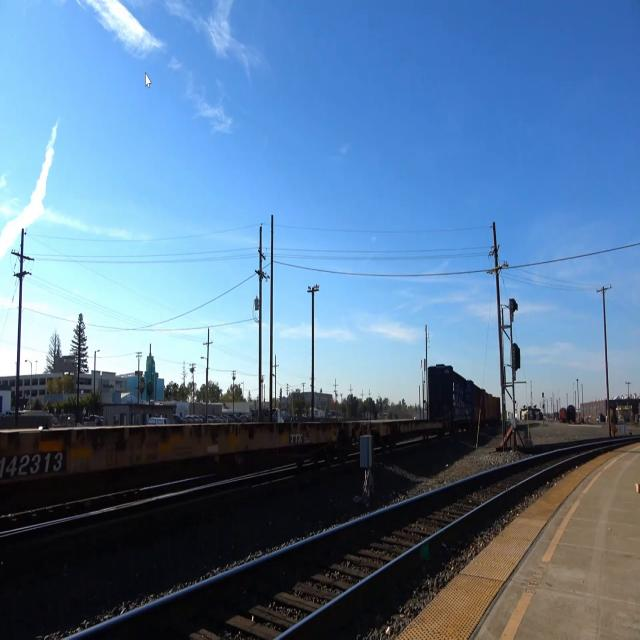flatcar: (0, 413, 345, 536), (345, 416, 444, 446)
